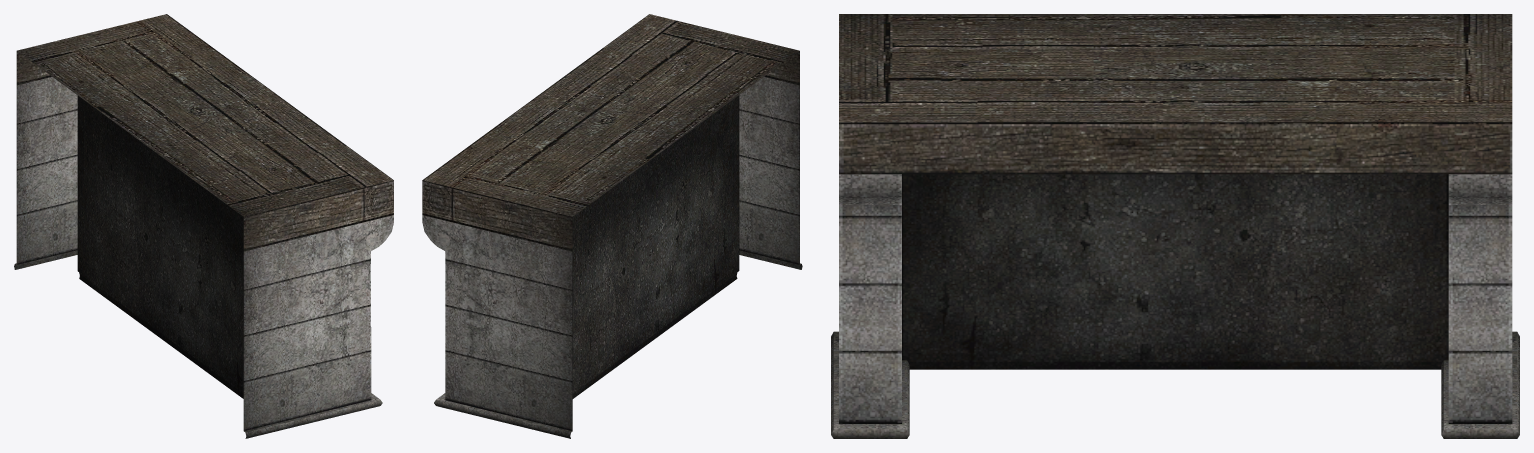
Rendered from fireplace2.glb.
3 views of the same model, side by side, from view 1: azimuth 30°, elevation 25°; view 2: azimuth 150°, elevation 25°; view 3: azimuth 270°, elevation 25° (orthographic). The views are drawn at different scales.
Visible parts, largest first — view 1: fireplace2; view 2: fireplace2; view 3: fireplace2.
Part boxes in pixels (box(x1,y1,x2,y2)): fireplace2: box(14, 14, 393, 438); fireplace2: box(422, 14, 802, 438); fireplace2: box(831, 14, 1519, 438).
Size of the model in its own units: 0.6107 by 0.8568 by 1.63.
1 material, 1 textured.
